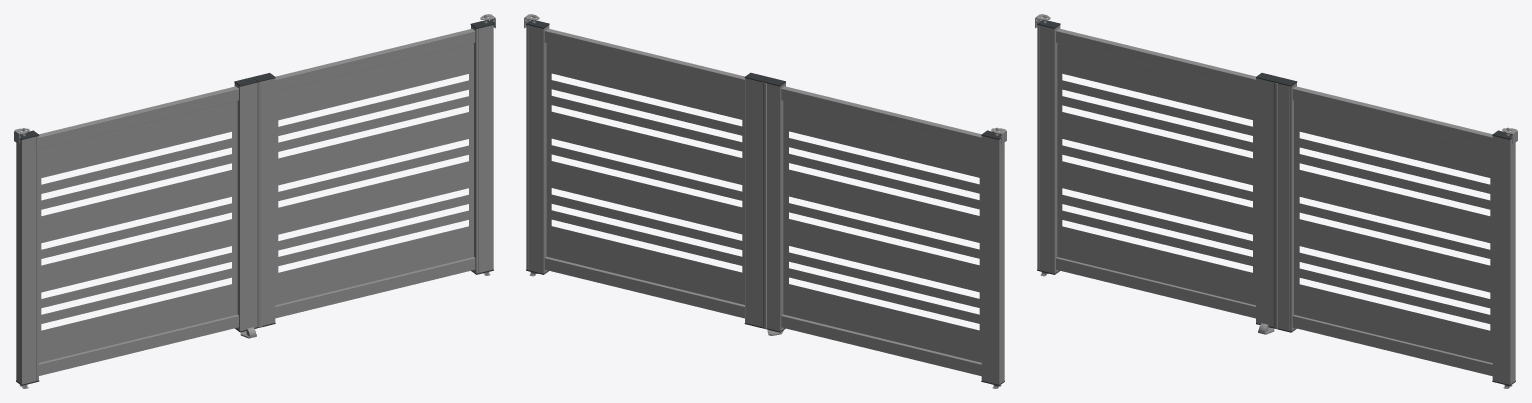
The picture shows the model from 3 angles, left to right: view 1: azimuth 30°, elevation 25°; view 2: azimuth 150°, elevation 25°; view 3: azimuth 330°, elevation 25°; orthographic projection.
Parts seen in each view (by area): view 1: barres horizontales001, barres horizontales, Shape107412643, Shape107412644, Shape107412971, Shape107412972, Rectangle062, Rectangle060, Rectangle063, Rectangle061, Shape107412637; view 2: barres horizontales, barres horizontales001, Shape107412643, Shape107412971, Shape107412972, Shape107412644, Rectangle060, Rectangle062, Rectangle063, Rectangle061, Shape107412970; view 3: barres horizontales, barres horizontales001, Shape107412971, Shape107412643, Shape107412644, Shape107412972, Rectangle062, Rectangle060, Rectangle063, Rectangle061, Shape107412637.
Part boxes in pixels (<box>): barres horizontales001: <box>275,43,473,305</box>; barres horizontales: <box>39,101,237,362</box>; Shape107412643: <box>16,136,38,384</box>; Shape107412644: <box>234,83,257,331</box>; Shape107412971: <box>471,25,493,273</box>; Shape107412972: <box>259,78,275,325</box>; Rectangle062: <box>275,28,475,91</box>; Rectangle060: <box>39,86,238,148</box>; Rectangle063: <box>275,257,475,318</box>; Rectangle061: <box>39,314,238,375</box>; Shape107412637: <box>257,81,262,327</box>; barres horizontales: <box>783,101,981,362</box>; barres horizontales001: <box>546,43,744,304</box>; Shape107412643: <box>981,136,1004,384</box>; Shape107412971: <box>526,24,549,273</box>; Shape107412972: <box>745,78,762,326</box>; Shape107412644: <box>764,82,785,331</box>; Rectangle060: <box>781,86,981,148</box>; Rectangle062: <box>544,28,744,91</box>; Rectangle063: <box>544,256,744,318</box>; Rectangle061: <box>781,314,981,376</box>; Shape107412970: <box>762,82,766,328</box>; barres horizontales: <box>1057,43,1255,305</box>; barres horizontales001: <box>1294,100,1492,362</box>; Shape107412971: <box>1492,136,1515,384</box>; Shape107412643: <box>1037,24,1060,273</box>; Shape107412644: <box>1256,78,1273,326</box>; Shape107412972: <box>1275,82,1296,331</box>; Rectangle062: <box>1292,86,1492,148</box>; Rectangle060: <box>1056,28,1255,91</box>; Rectangle063: <box>1292,315,1492,376</box>; Rectangle061: <box>1056,257,1255,318</box>; Shape107412637: <box>1273,82,1277,328</box>.
Size of the model in its own units: 3259 by 1693 by 116.
Materials: 7 (2 with a texture image).
